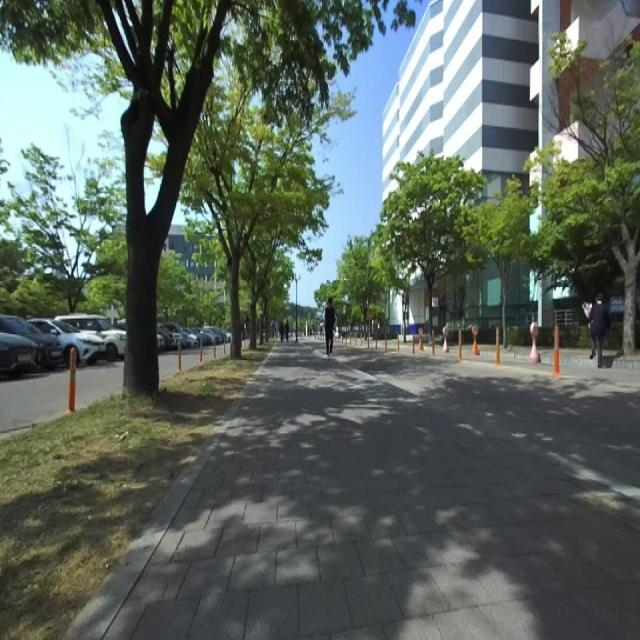sidewalk: (104, 347, 640, 639)
